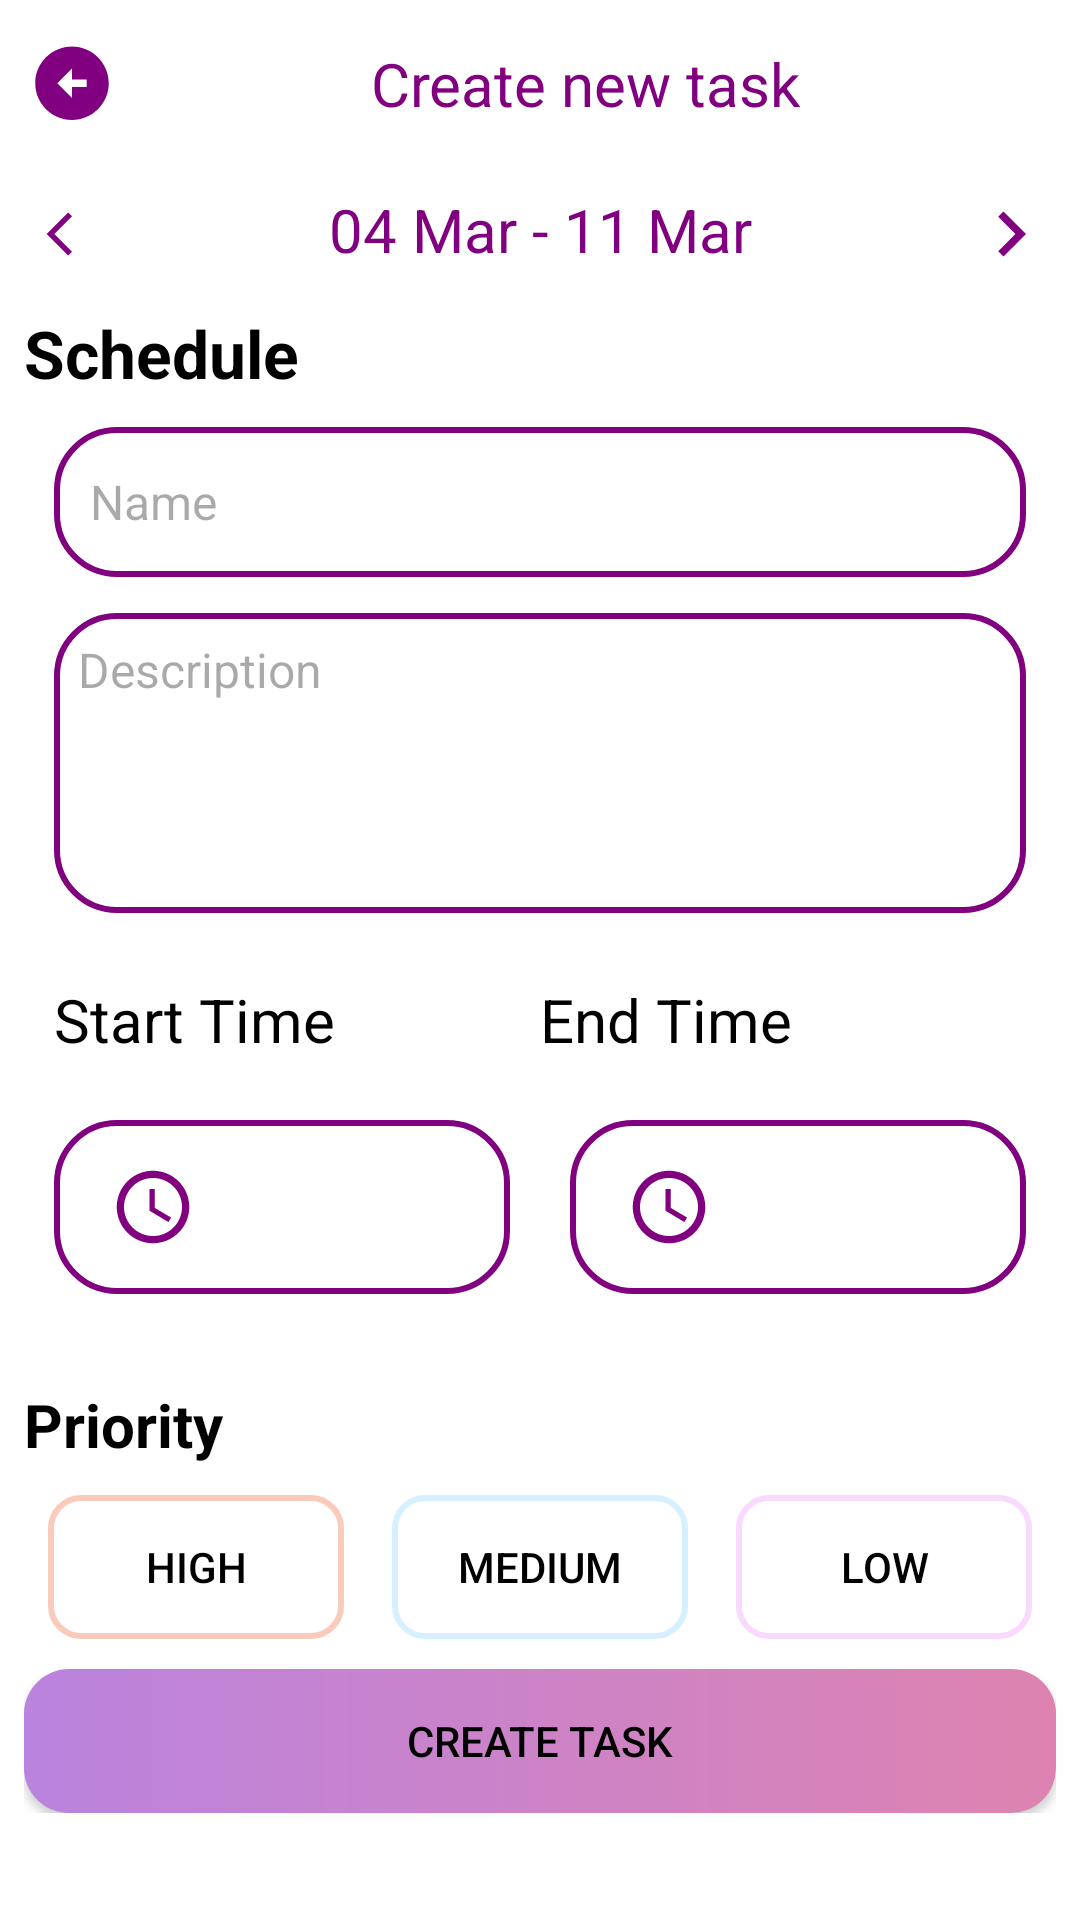

Where icons sit on this 1080w x 1920h app screen, as (x1, y1, x2, y2):
back: (35, 46, 109, 120), (47, 212, 72, 256)
next: (998, 211, 1026, 257)
